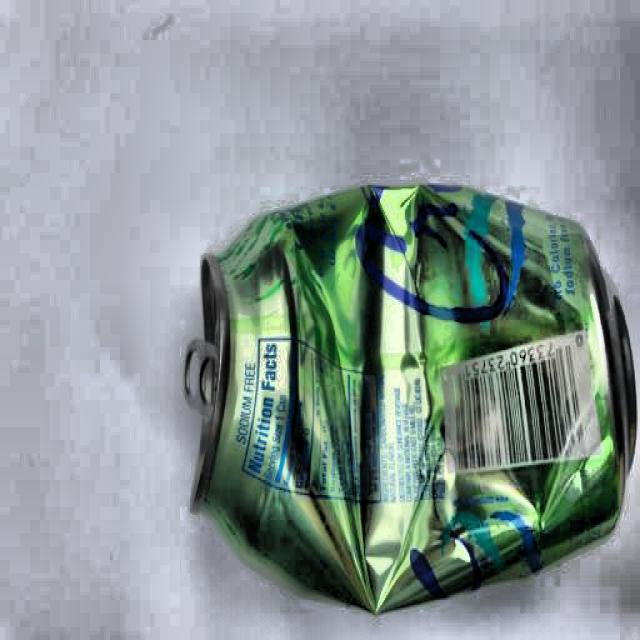metal: (189, 185, 640, 611)
